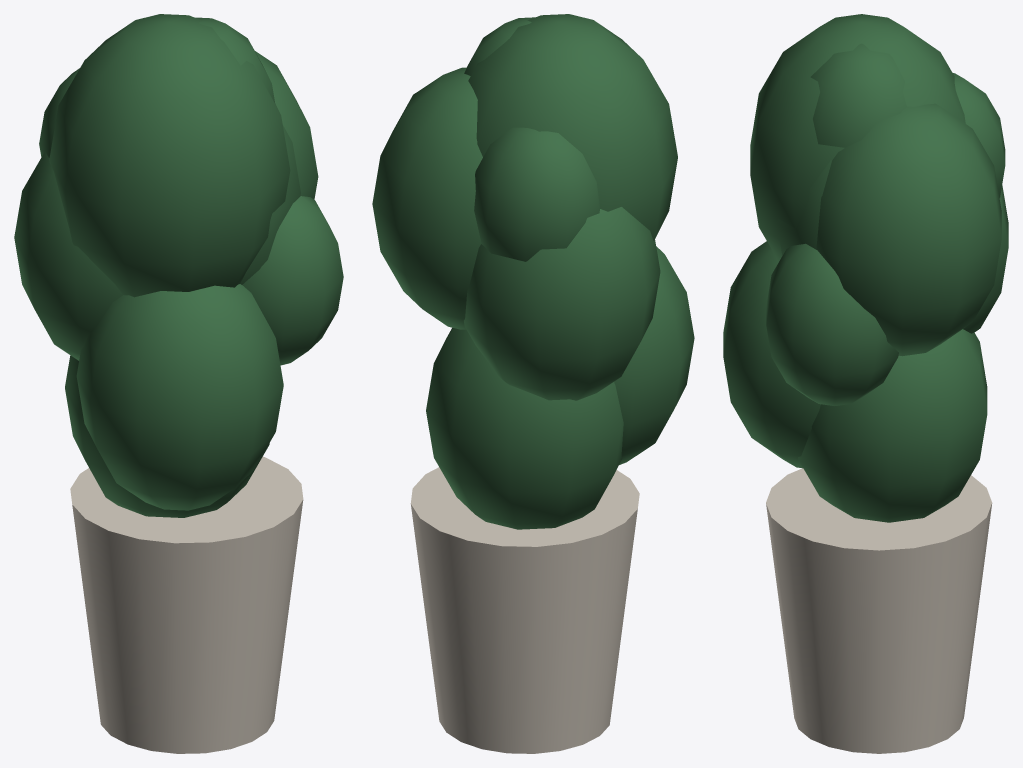
Rendered from Plant_1.glb.
3 views of the same model, side by side, from view 1: azimuth 30°, elevation 25°; view 2: azimuth 150°, elevation 25°; view 3: azimuth 270°, elevation 25° (orthographic). The views are drawn at different scales.
Visible parts, largest first — view 1: Plant_1_Foliage, Plant_1_Planter; view 2: Plant_1_Foliage, Plant_1_Planter; view 3: Plant_1_Foliage, Plant_1_Planter.
Boxes of the visible parts, x1,y1,x2,y2 form: Plant_1_Foliage: (14, 14, 343, 517); Plant_1_Planter: (70, 456, 303, 753); Plant_1_Foliage: (372, 14, 694, 529); Plant_1_Planter: (410, 467, 639, 753); Plant_1_Foliage: (723, 14, 1008, 522); Plant_1_Planter: (766, 468, 992, 753).
Bounding box in the file's own units: 0.5348 × 1.33 × 0.5037.
